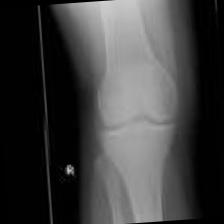avulsion-fracture: (42, 0, 220, 224)
